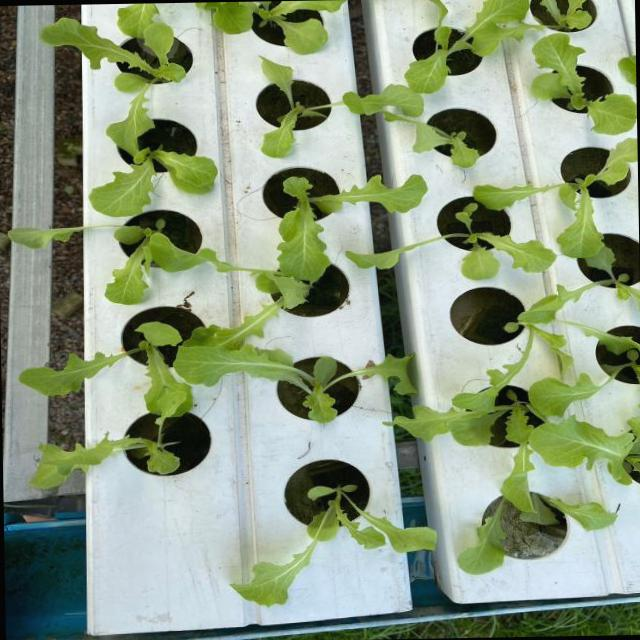Lettuce-Not-Ready-to-Harvest: (233, 484, 436, 605), (41, 3, 186, 155), (473, 137, 637, 261), (173, 344, 414, 422), (10, 224, 238, 304), (20, 323, 193, 423), (346, 202, 555, 280), (261, 57, 423, 156), (458, 472, 616, 573), (277, 175, 425, 282), (487, 284, 640, 386), (405, 0, 531, 92), (29, 417, 179, 489), (532, 32, 636, 133), (89, 149, 217, 216), (196, 0, 343, 53), (528, 416, 640, 483), (529, 350, 638, 416), (393, 403, 533, 445), (384, 112, 478, 167), (541, 0, 591, 29)
